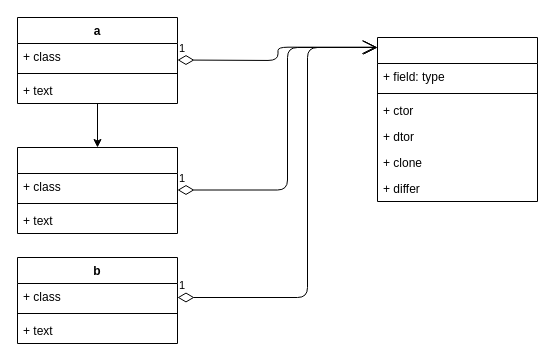
Image size: 555x364. Some labels were removed from this diagram. Here are the shapes that lost their labels. From the top down, the box of each, then its label:
(376, 36, 538, 202): Class
(16, 146, 178, 234): aa
